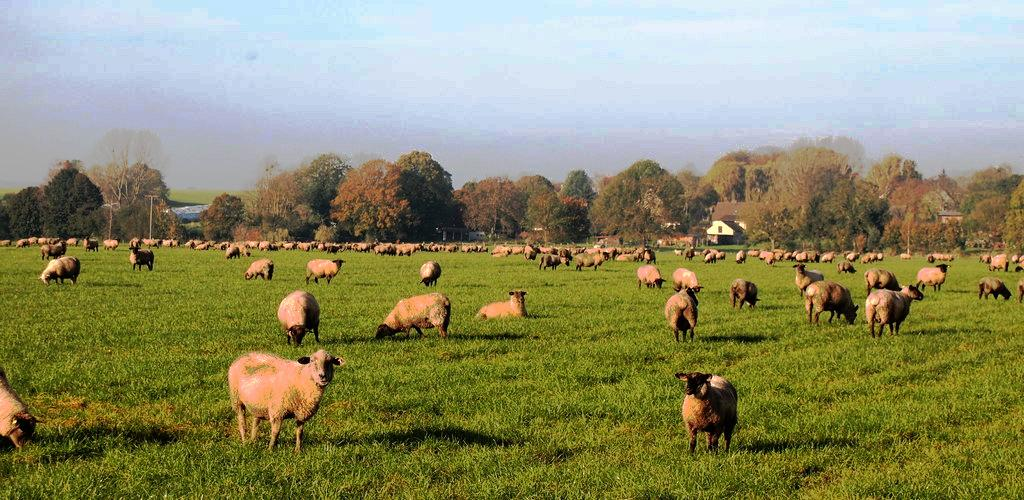Sheep: (226, 346, 347, 452), (674, 368, 740, 456), (0, 362, 44, 451), (374, 293, 451, 342), (865, 282, 925, 337), (277, 289, 323, 349), (804, 282, 859, 326), (664, 284, 704, 344), (471, 290, 534, 323), (37, 256, 83, 288), (913, 262, 953, 293), (862, 268, 904, 297), (791, 262, 826, 295), (306, 257, 346, 285), (731, 278, 762, 311), (976, 277, 1015, 302), (671, 268, 705, 294), (637, 265, 669, 292), (127, 245, 156, 272), (575, 250, 610, 272), (244, 258, 276, 282), (418, 259, 443, 289), (536, 251, 570, 271), (987, 252, 1010, 273), (834, 260, 860, 277), (615, 249, 643, 264), (231, 243, 252, 259), (84, 234, 100, 253), (102, 237, 122, 252), (224, 246, 241, 261), (642, 248, 657, 265), (141, 237, 160, 250), (352, 243, 373, 254), (374, 245, 391, 258), (684, 244, 697, 260), (702, 252, 717, 265), (735, 248, 747, 264), (493, 249, 512, 259), (195, 242, 212, 253), (15, 239, 31, 250), (763, 251, 774, 267), (821, 253, 835, 264), (1014, 258, 1024, 273), (282, 242, 298, 251), (860, 253, 873, 264), (899, 252, 913, 261), (170, 237, 181, 248), (161, 238, 173, 248), (715, 251, 727, 261), (926, 253, 937, 263), (846, 251, 856, 262), (184, 240, 195, 249), (877, 252, 884, 262)
